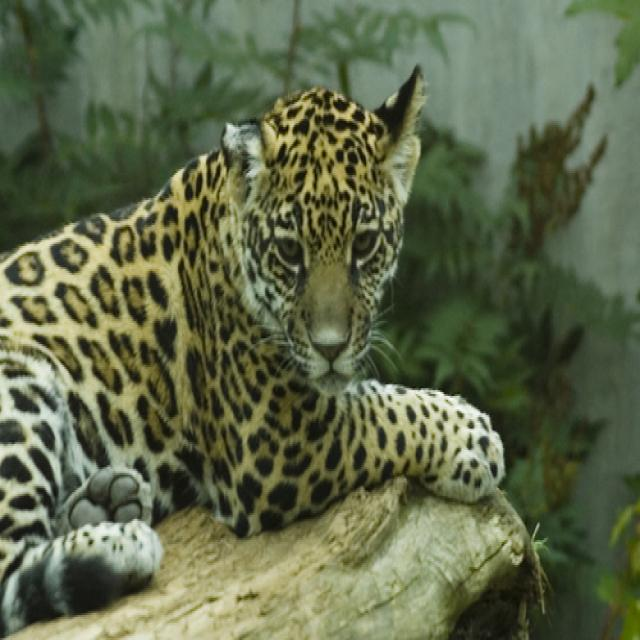Leopard: (0, 64, 507, 636)
